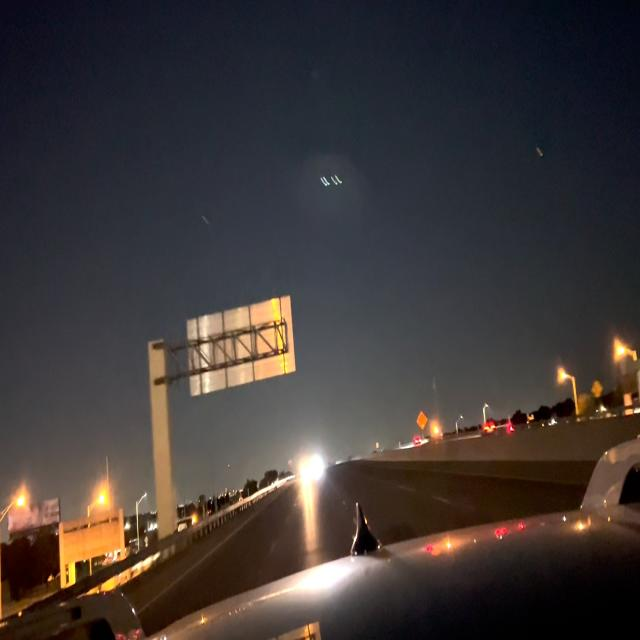back-of-sign: (185, 297, 297, 403)
